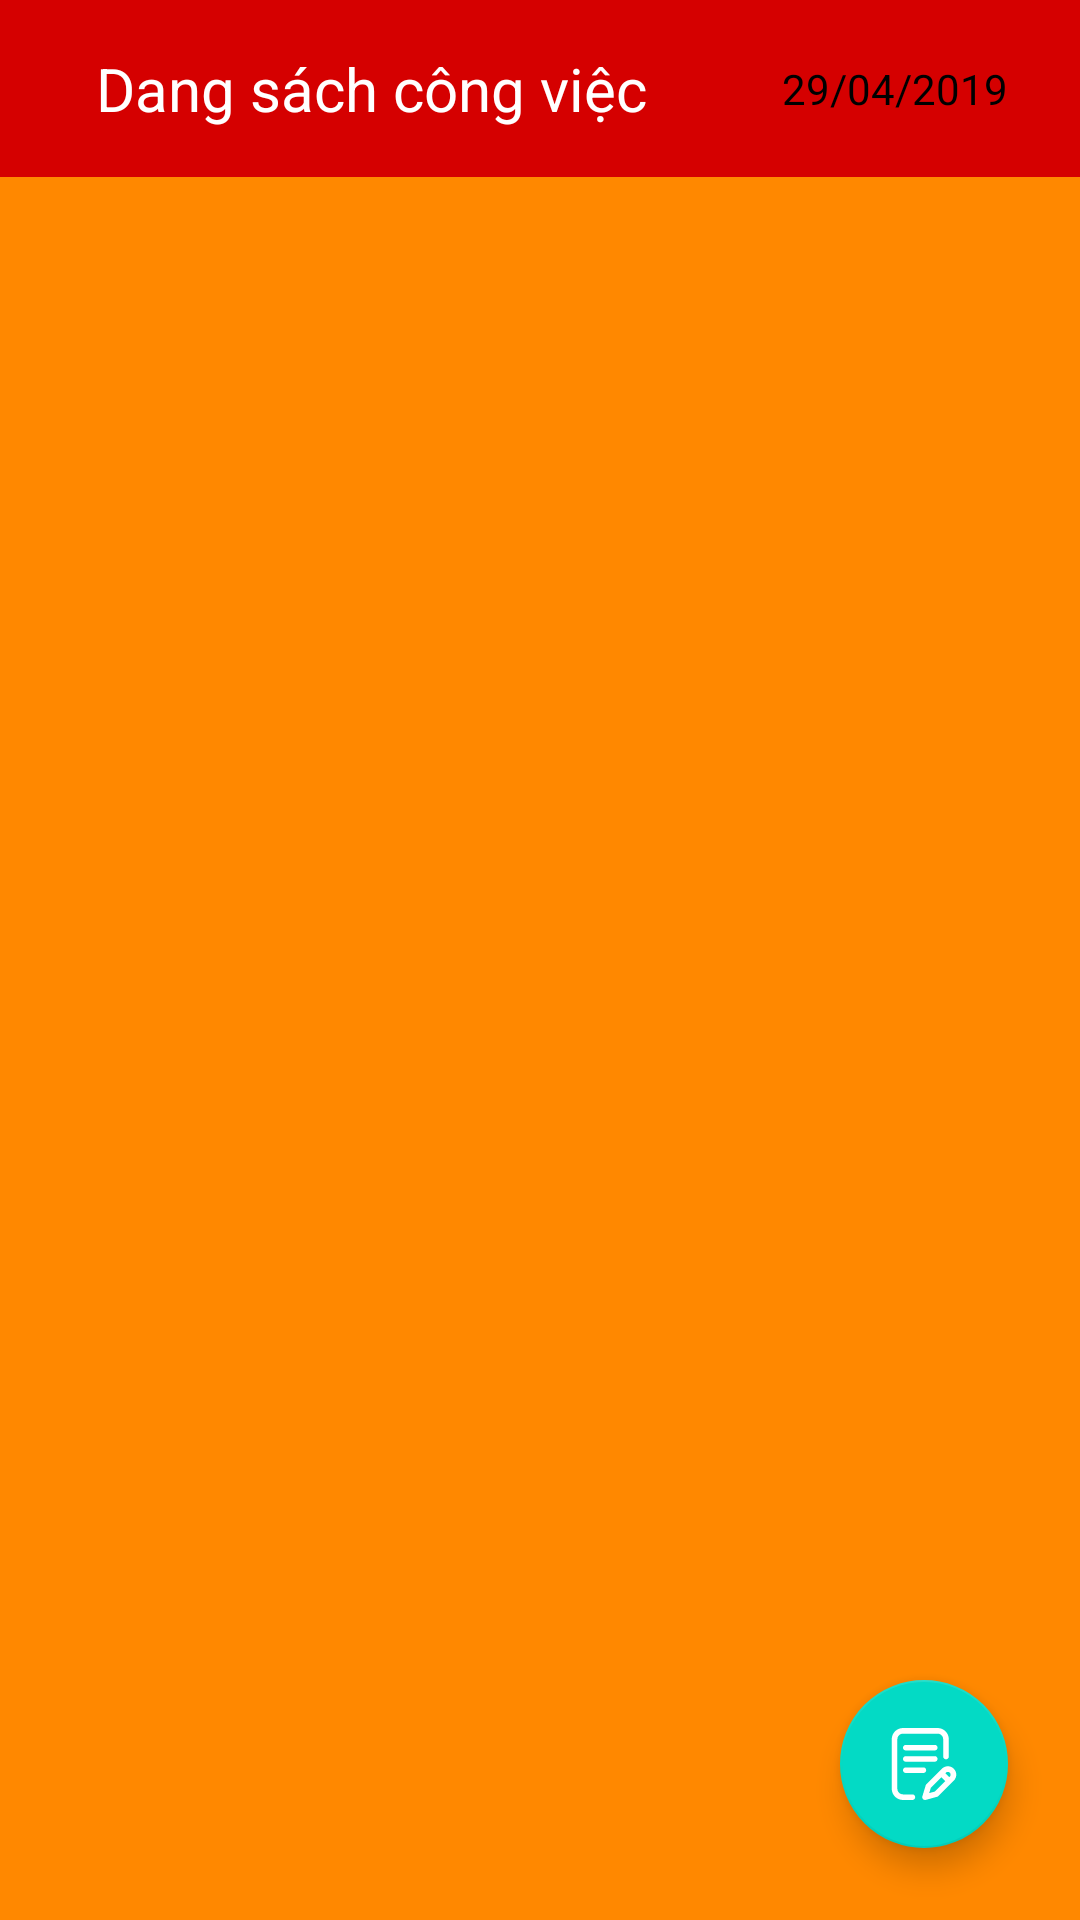

Screen size 1080×1920. Icon name, then its center in pixels as [x,y]:
writing: [924,1764]
